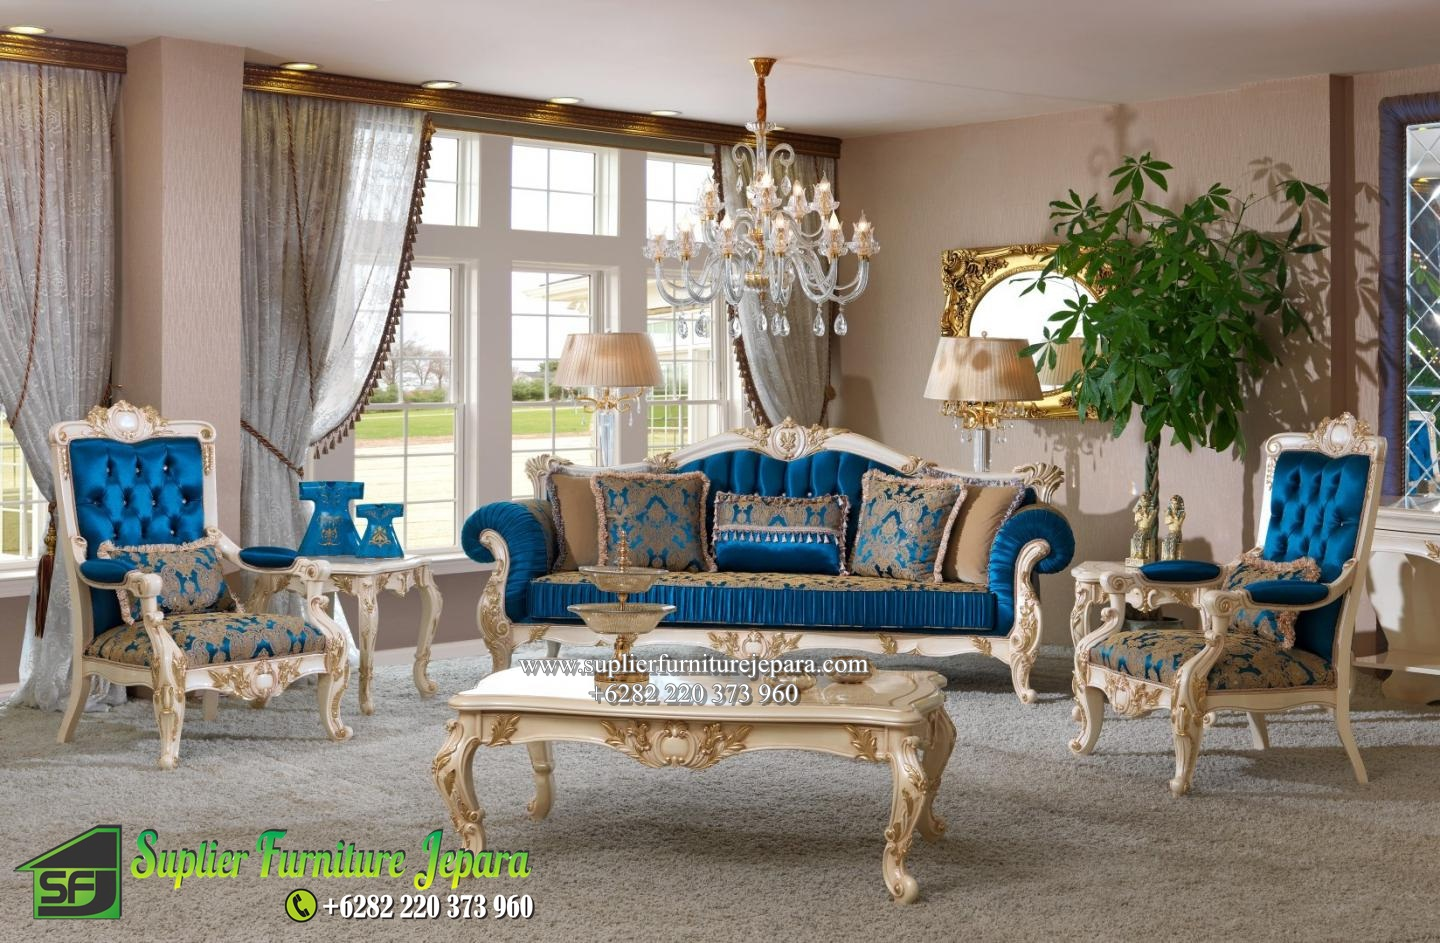Carving Chair: (465, 404, 1051, 713), (1077, 416, 1397, 801), (37, 409, 358, 748)
Carving Table: (437, 657, 974, 922)
